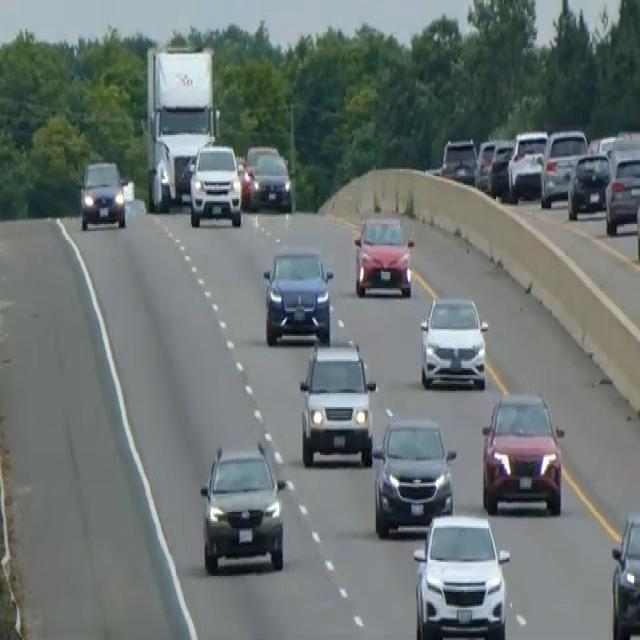car: (412, 510, 510, 638), (198, 439, 286, 574), (480, 390, 565, 516), (371, 411, 456, 537), (262, 243, 333, 345), (418, 292, 489, 389), (352, 211, 414, 297), (189, 138, 242, 228), (540, 126, 589, 206), (609, 510, 639, 638), (77, 157, 127, 231), (244, 142, 292, 212), (604, 144, 639, 235), (566, 149, 610, 219), (506, 128, 548, 201), (475, 137, 512, 194), (439, 135, 477, 185), (634, 174, 639, 270)
lorry: (143, 45, 219, 212)
minivan: (297, 336, 376, 468)
